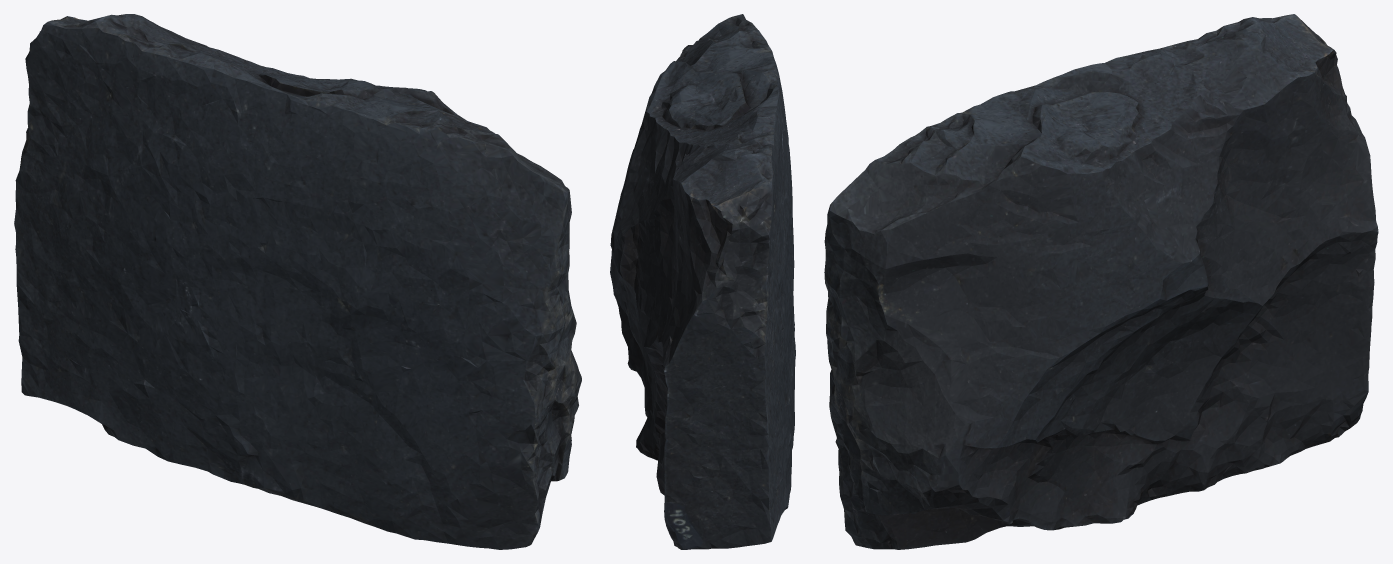
Rendered from basalt_low.glb.
3 views of the same model, side by side, from view 1: azimuth 30°, elevation 25°; view 2: azimuth 150°, elevation 25°; view 3: azimuth 270°, elevation 25° (orthographic). The views are drawn at different scales.
Parts seen in each view (by area): view 1: model.007; view 2: model.007; view 3: model.007.
Part boxes in pixels (x1,y1,x2,y2): model.007: (14,14,581,549); model.007: (610,14,795,549); model.007: (824,14,1378,549).
Size of the model in its own units: 19.51 by 22.68 by 26.79.
Materials: 1 (1 with a texture image).
